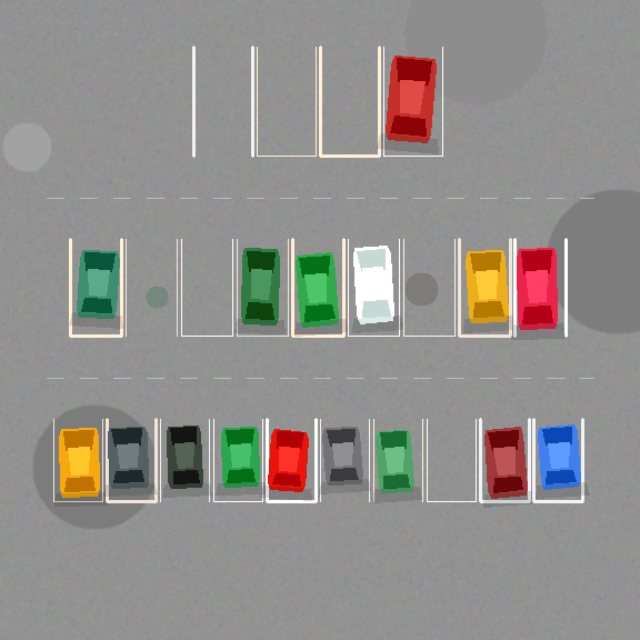space-empty: (193, 47, 252, 156), (257, 47, 316, 156), (320, 47, 379, 156), (126, 239, 177, 336), (181, 239, 232, 336), (403, 239, 454, 336), (427, 419, 476, 501)
space-occupied: (383, 47, 442, 156), (514, 239, 566, 336), (70, 239, 121, 336), (237, 239, 288, 336), (292, 239, 343, 336), (348, 239, 399, 336), (459, 239, 510, 336), (53, 419, 102, 501), (107, 419, 156, 501), (160, 419, 209, 501), (213, 419, 262, 501), (267, 419, 316, 501), (320, 419, 369, 501), (373, 419, 422, 501), (480, 419, 529, 501), (533, 419, 582, 501)
